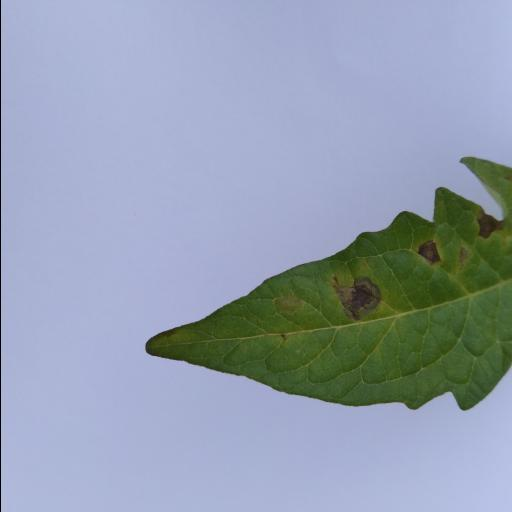Early Blight: (143, 186, 512, 414)
